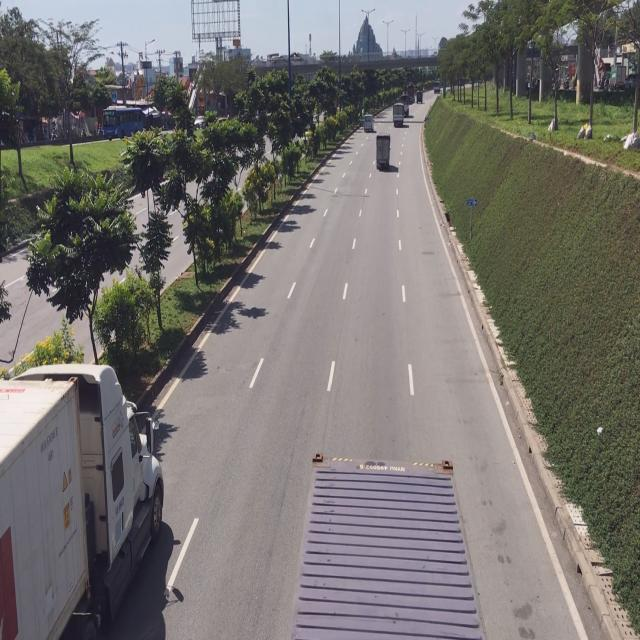motorbike: (0, 278, 12, 324)
truck: (4, 357, 170, 635), (289, 457, 483, 638), (376, 130, 393, 173)
